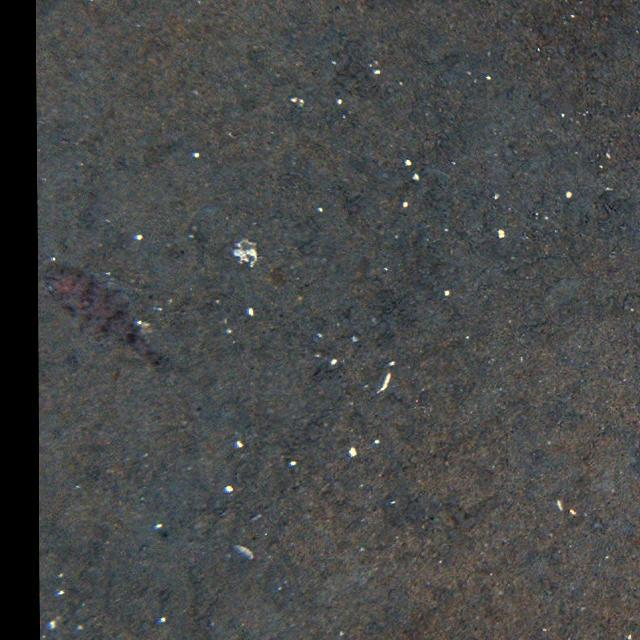flatfish: (41, 256, 177, 378)
